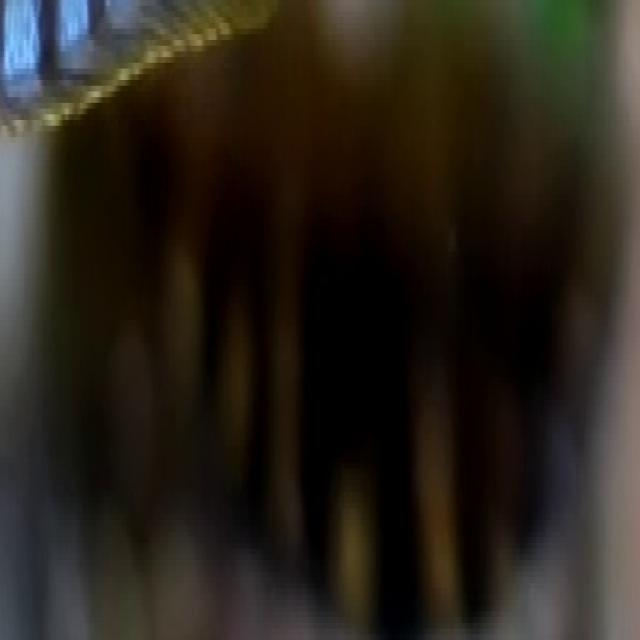fish: (1, 0, 639, 635)
